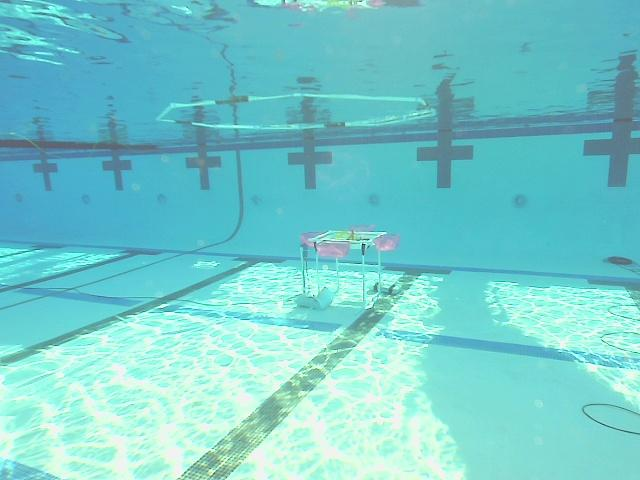table: (293, 224, 400, 314)
